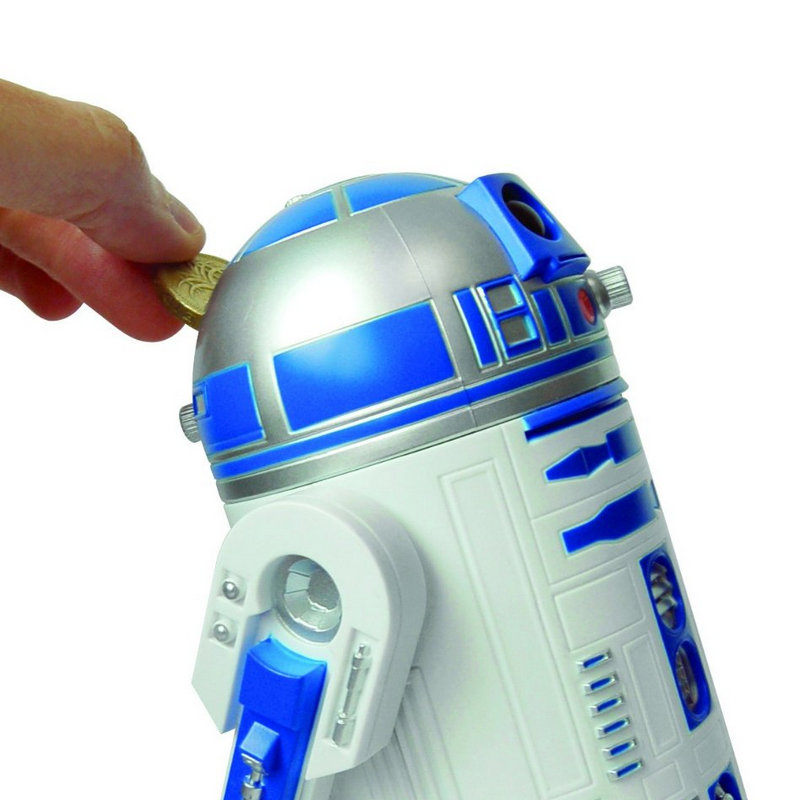r2d2: (198, 174, 745, 800)
